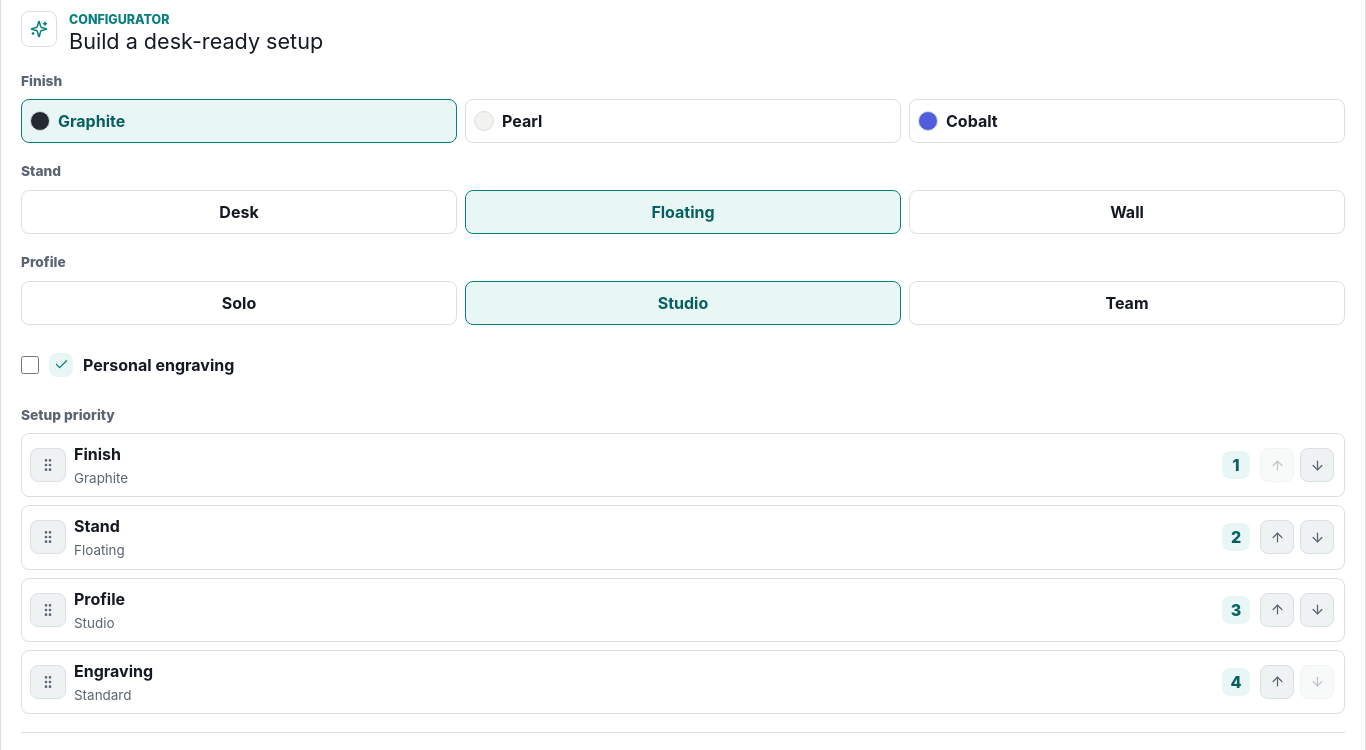
ConfiguratorPanel › keeps selection controls and the estimate working
Click the button "Cobalt": (972, 121) [909,99,1345,143]
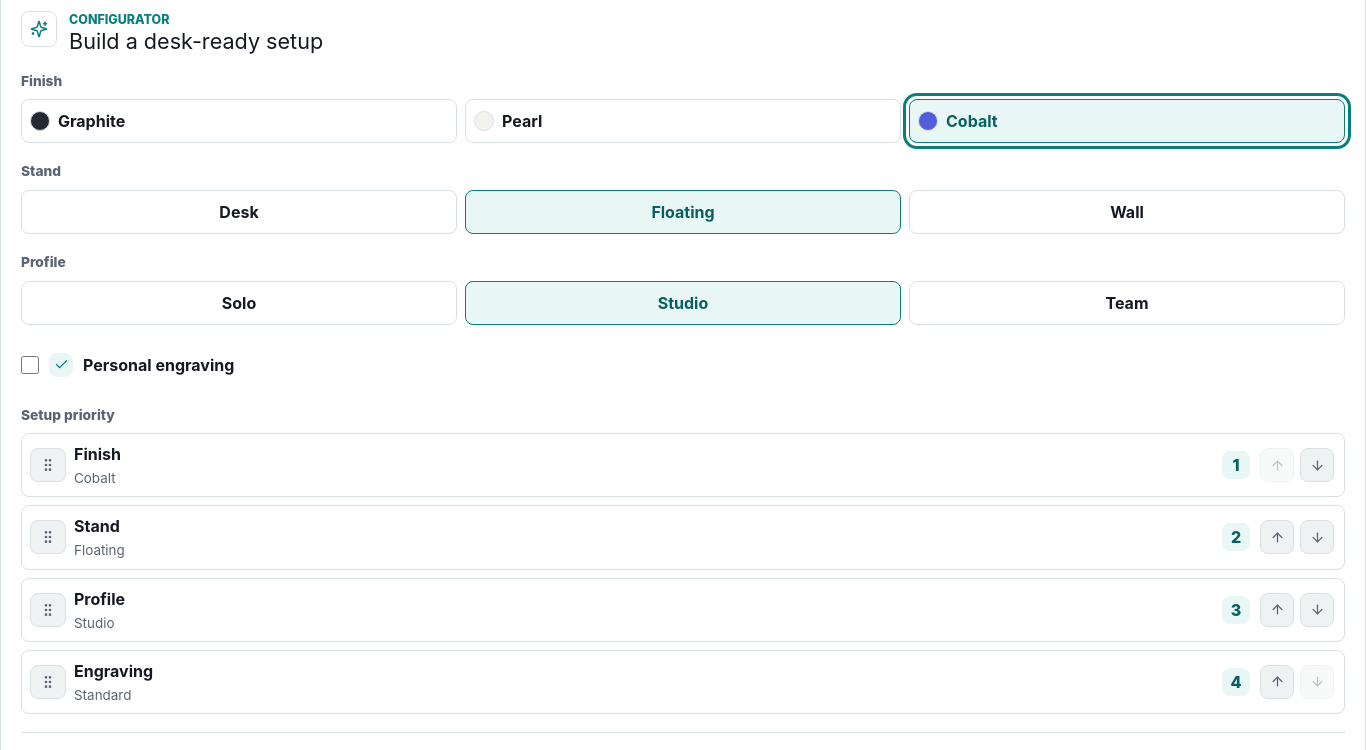
Click the button "Wall": (1127, 212) [909,190,1345,234]
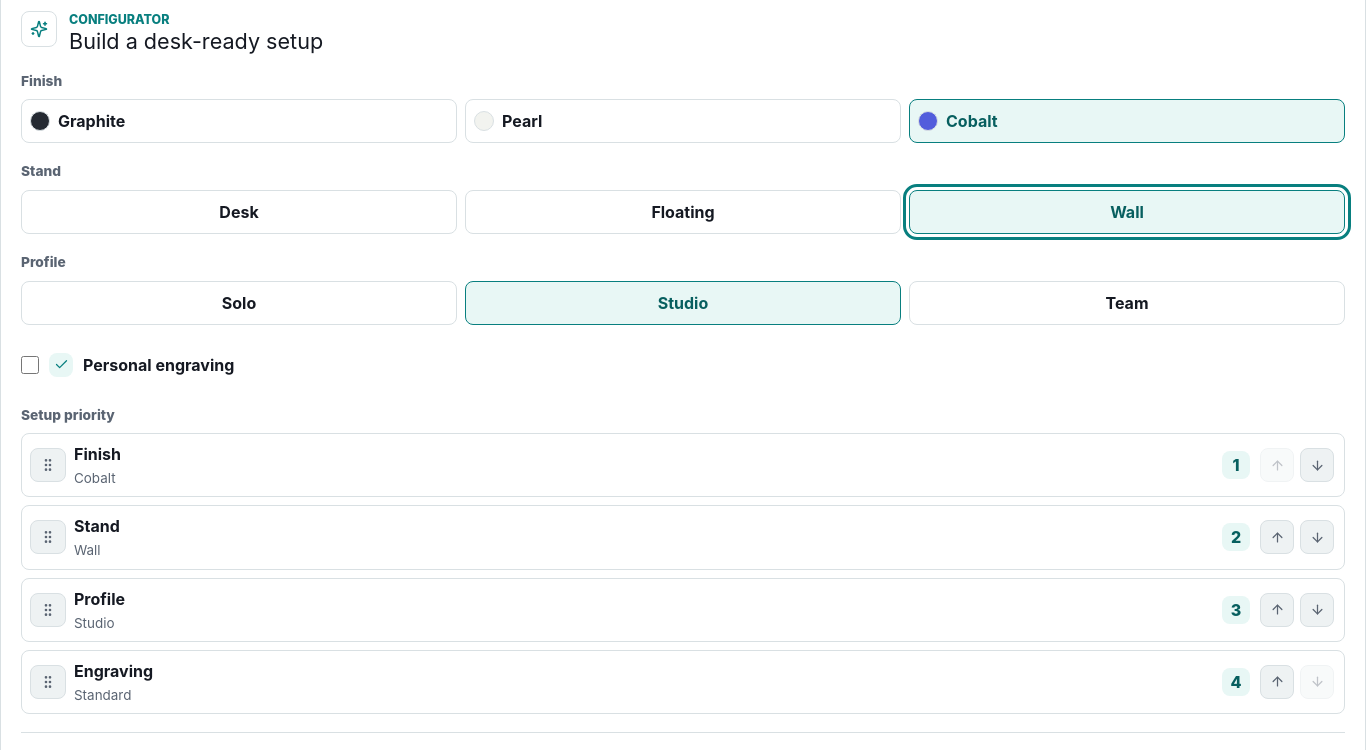
Click the button "Team": (1127, 303) [909,281,1345,325]
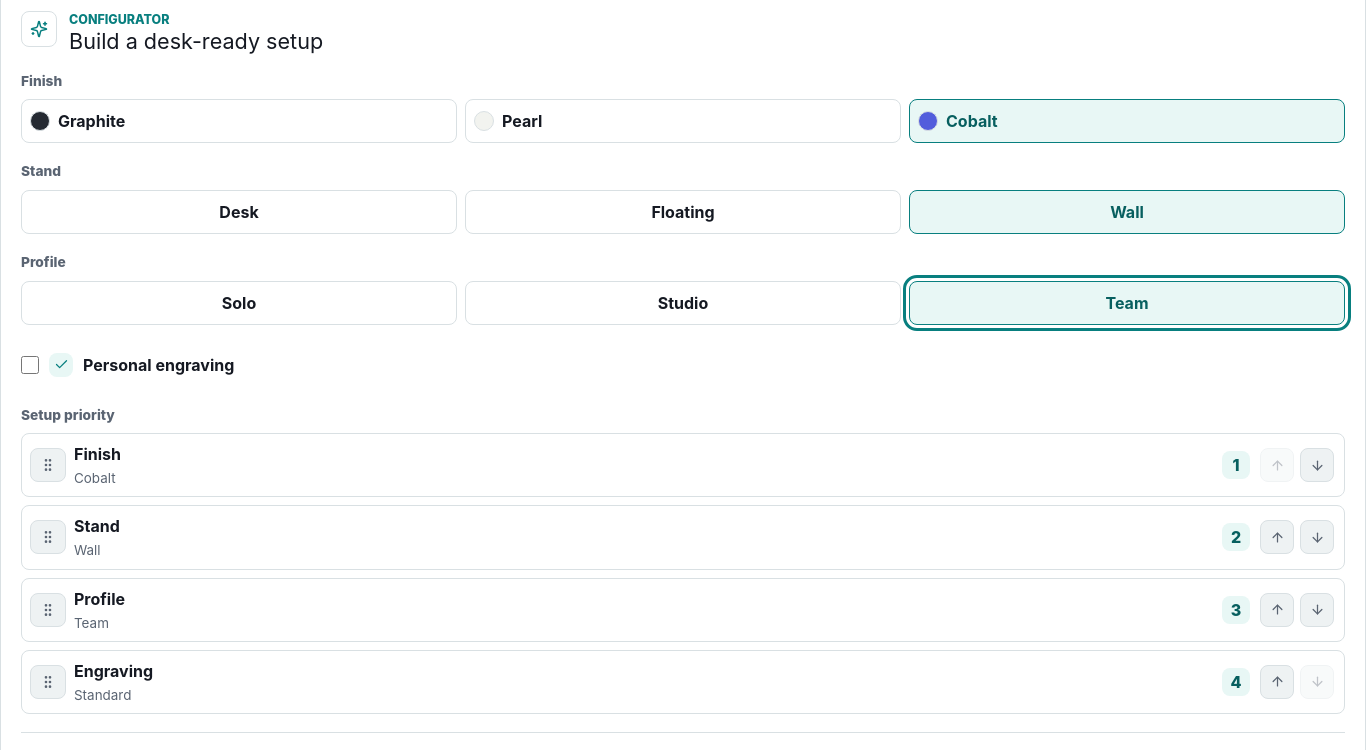
Click the checkbox labelled "Personal engraving": (30, 365) [21,343,39,387]
(page scrolled)
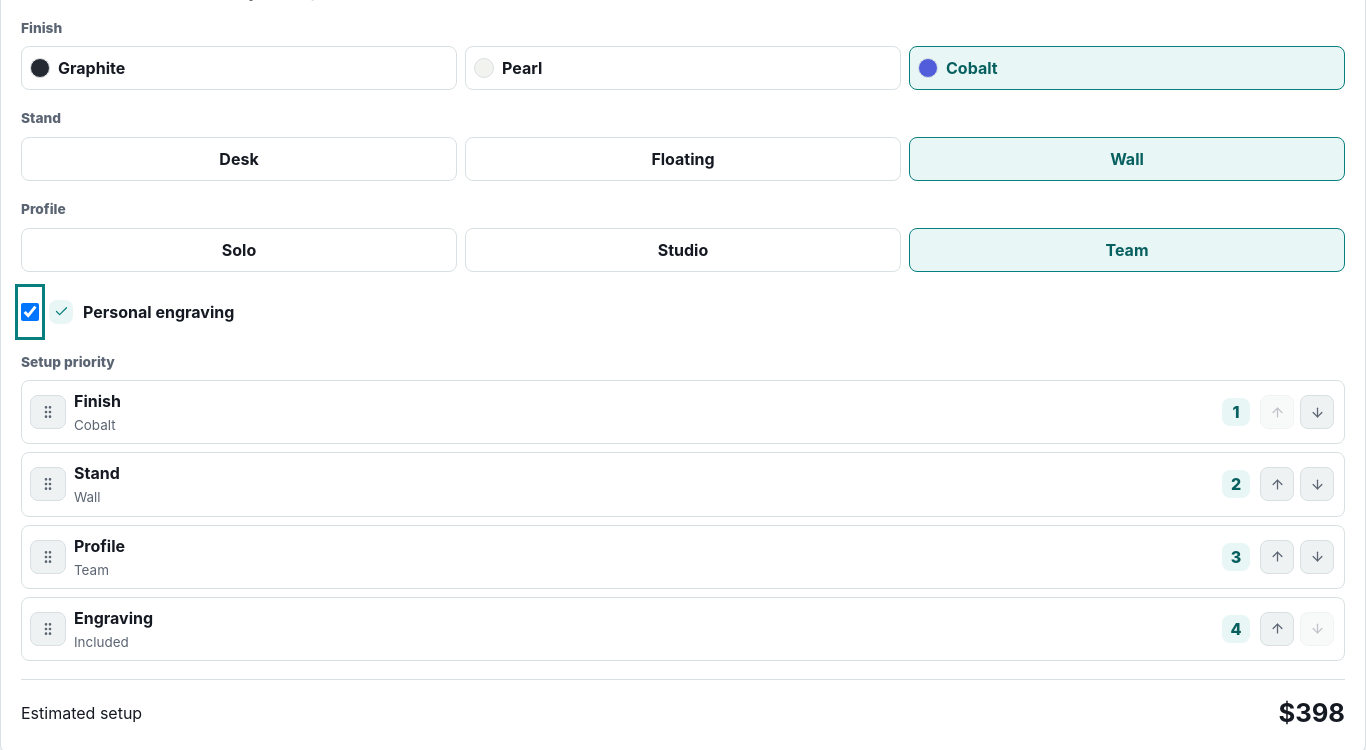
Result: the text "$398" is shown at [1278,694,1345,732]
